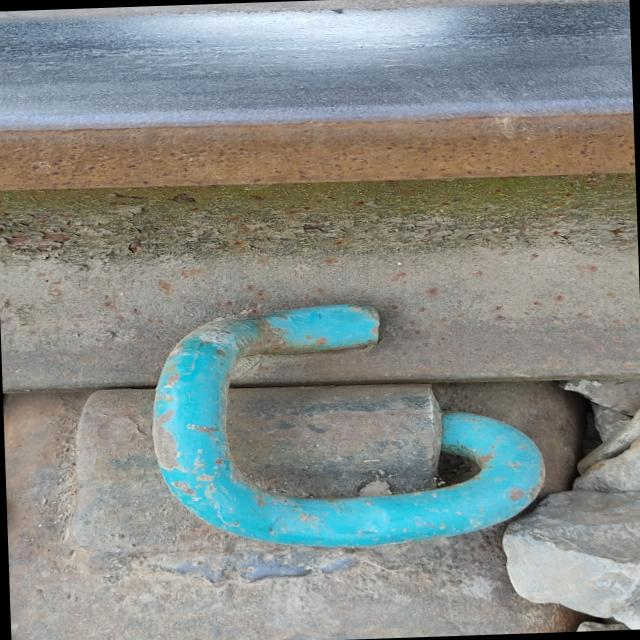track_bolt: (131, 288, 555, 564)
